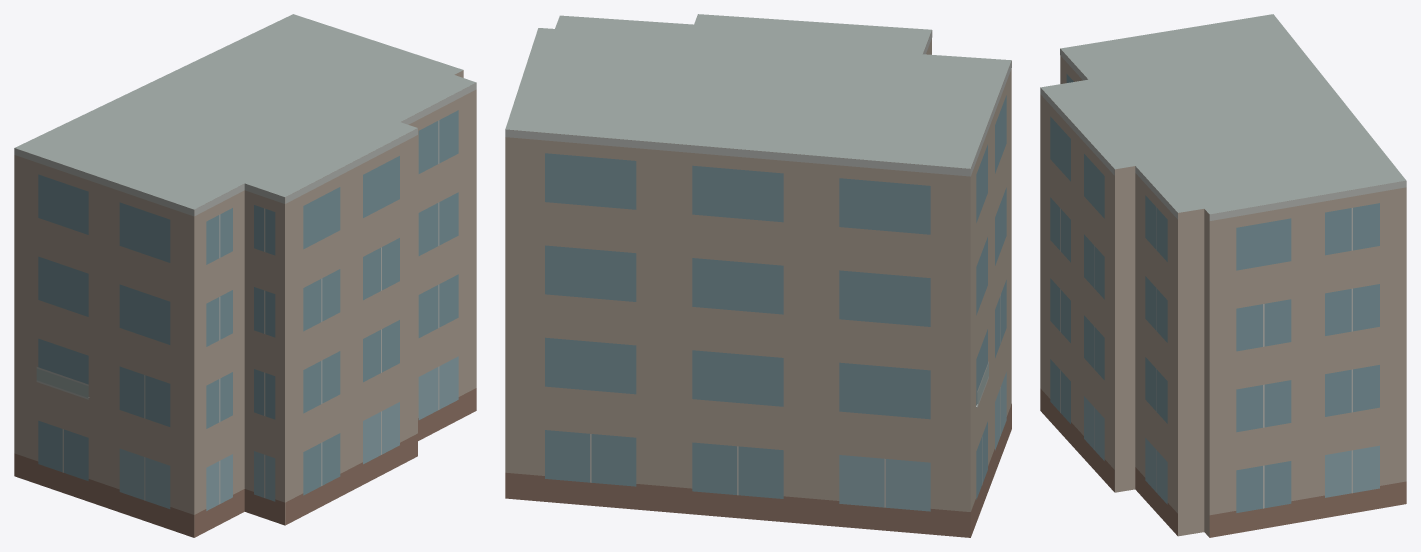
The model's file is survey-upis-32823604.glb.
The picture shows the model from 3 angles, left to right: view 1: azimuth 30°, elevation 25°; view 2: azimuth 150°, elevation 25°; view 3: azimuth 270°, elevation 25°; orthographic projection. The views are drawn at different scales.
Parts seen in each view (by area): view 1: survey-upis-32823604.tmp; view 2: survey-upis-32823604.tmp; view 3: survey-upis-32823604.tmp.
Part boxes in pixels (bbox=[...]): survey-upis-32823604.tmp: bbox=[14, 14, 476, 537]; survey-upis-32823604.tmp: bbox=[505, 14, 1011, 537]; survey-upis-32823604.tmp: bbox=[1040, 14, 1406, 537].
Size of the model in its own units: 15.56 by 11.7 by 12.01.
